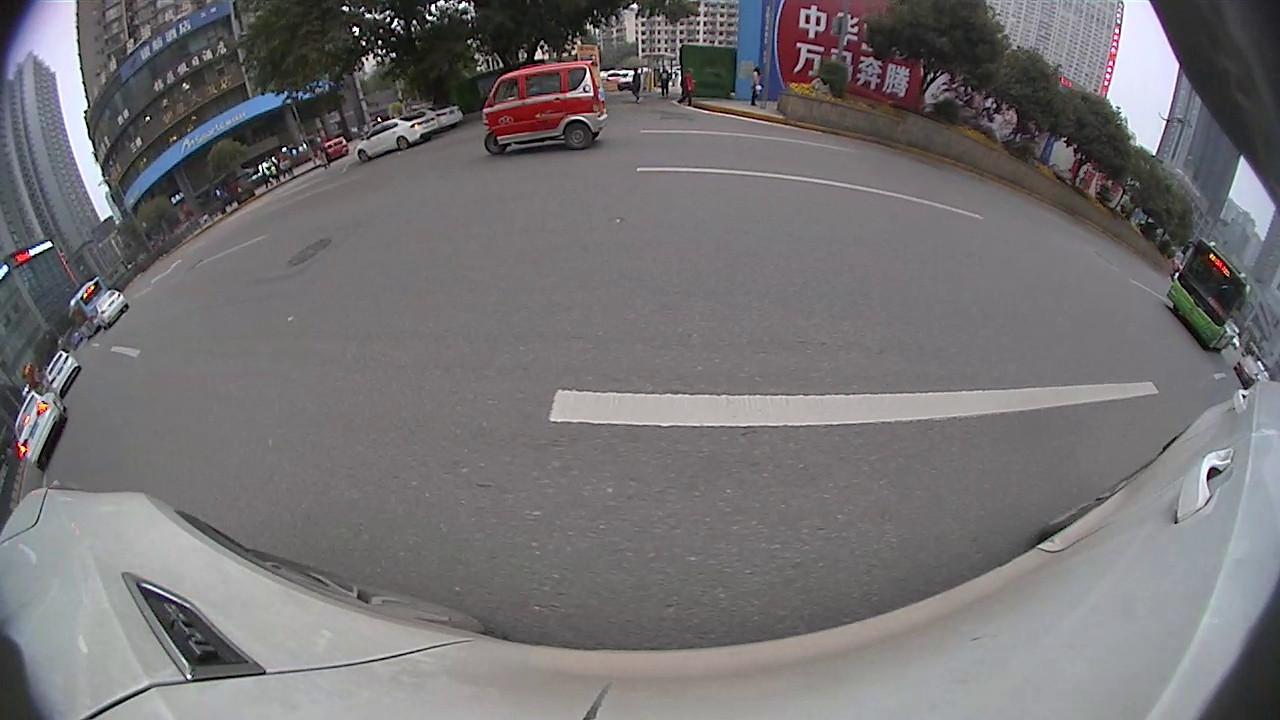bus: (1165, 236, 1251, 352), (66, 278, 108, 337)
car: (15, 388, 68, 473), (356, 112, 440, 163), (41, 349, 80, 390), (93, 287, 130, 330), (1233, 354, 1266, 388), (429, 104, 465, 129)
front: (481, 130, 510, 157), (355, 145, 372, 166)
rear: (561, 121, 593, 150), (393, 133, 412, 151)
rider: (483, 60, 608, 158)
